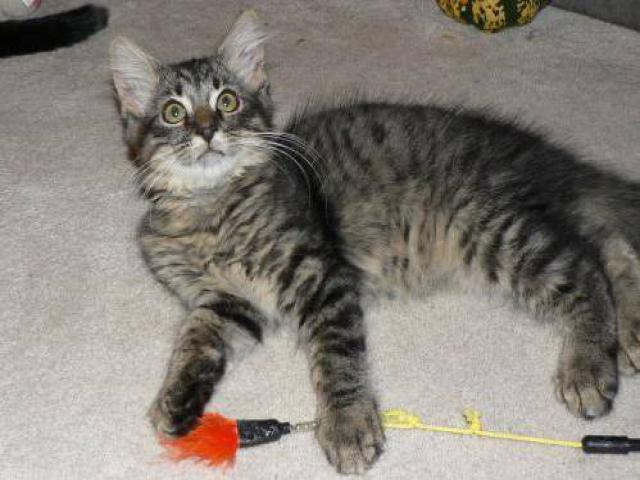cat: (118, 5, 640, 472)
